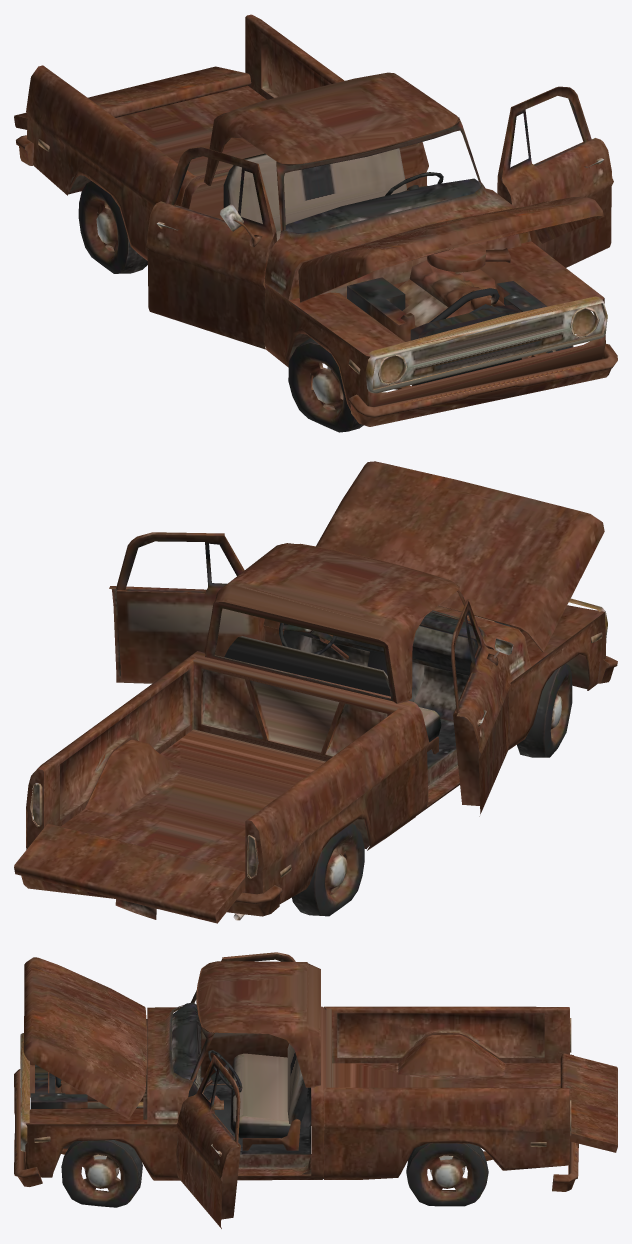
File: pickup_truck_b_rusty.glb
3 views of the same model, one above another, from view 1: azimuth 30°, elevation 25°; view 2: azimuth 150°, elevation 25°; view 3: azimuth 270°, elevation 25° (orthographic). The views are drawn at different scales.
Parts seen in each view (by area): view 1: pickup_truck_b_LOD0; view 2: pickup_truck_b_LOD0; view 3: pickup_truck_b_LOD0.
Boxes of the visible parts, x1,y1,x2,y2 form: pickup_truck_b_LOD0: [14, 14, 617, 432]; pickup_truck_b_LOD0: [14, 461, 617, 923]; pickup_truck_b_LOD0: [14, 952, 617, 1228].
Size of the model in its own units: 4.03 by 2 by 6.34.
1 material, 1 textured.
